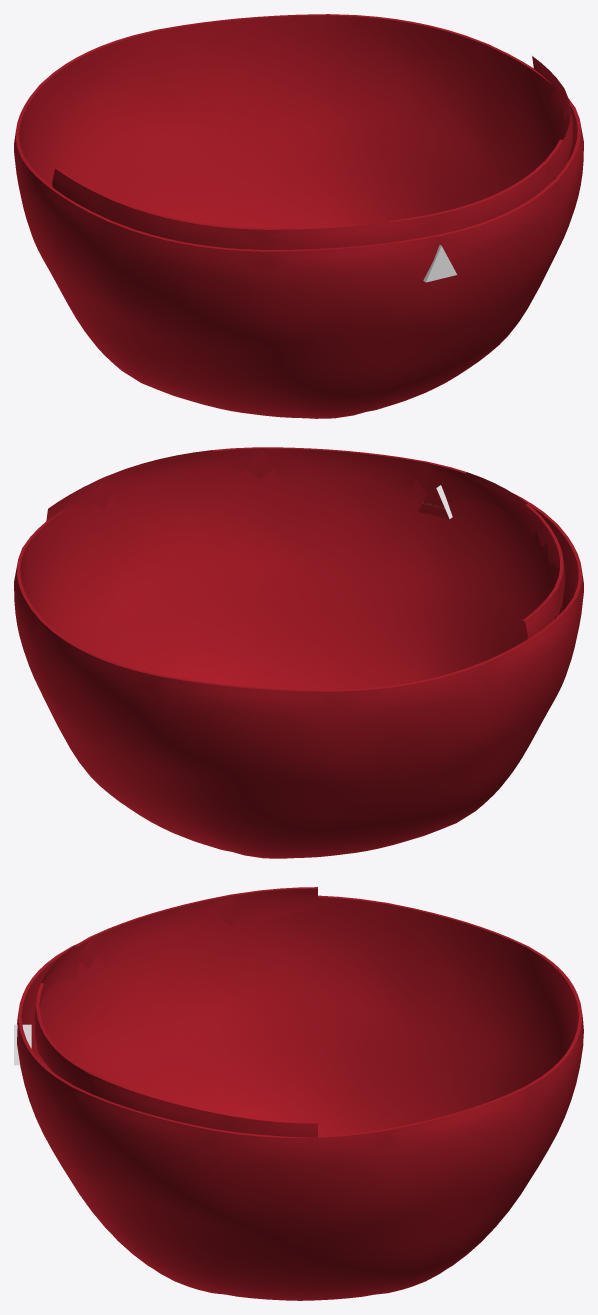
File: pomodaro_bottom.gltf
3 views of the same model, one above another, from view 1: azimuth 30°, elevation 25°; view 2: azimuth 150°, elevation 25°; view 3: azimuth 270°, elevation 25° (orthographic).
Visible parts, largest first — view 1: Bottom; view 2: Bottom; view 3: Bottom.
Part boxes in pixels (left/top/right/bottom): Bottom: left=14, top=14, right=583, bottom=418; Bottom: left=14, top=447, right=583, bottom=858; Bottom: left=14, top=887, right=583, bottom=1300.
Bounding box in the file's own units: 1.96 × 0.9551 × 1.95.
Materials: 1 (1 with a texture image).
